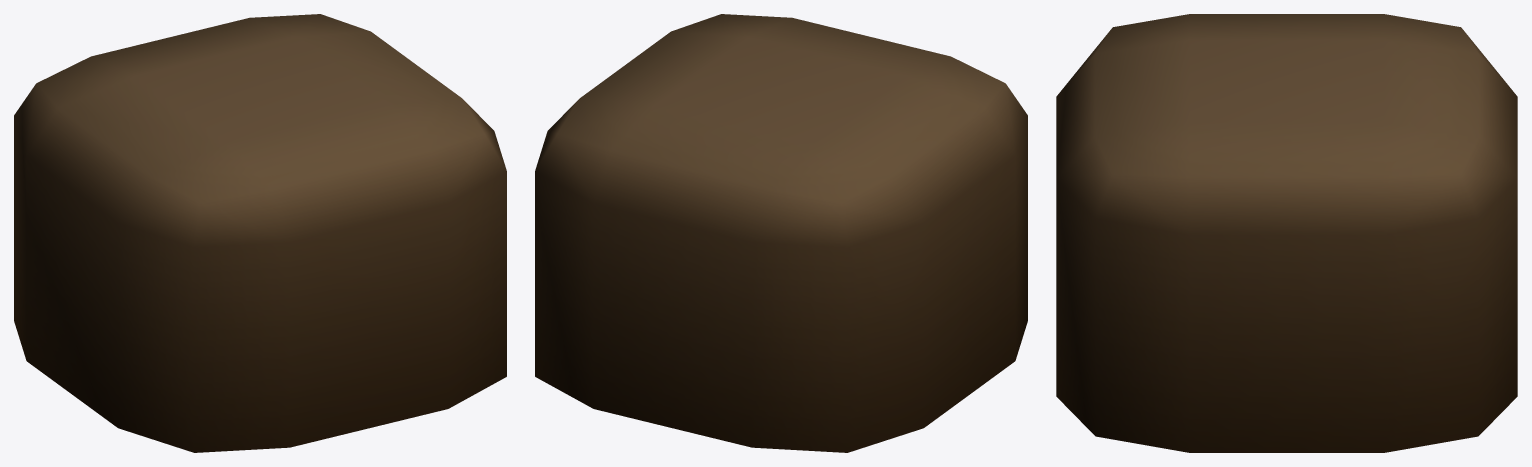
Rendered from part_Chocolate_2.fbx.
The picture shows the model from 3 angles, left to right: view 1: azimuth 30°, elevation 25°; view 2: azimuth 150°, elevation 25°; view 3: azimuth 270°, elevation 25°; orthographic projection. The views are drawn at different scales.
Parts seen in each view (by area): view 1: choco_2; view 2: choco_2; view 3: choco_2.
Boxes of the visible parts, x1,y1,x2,y2 form: choco_2: (14, 14, 506, 452); choco_2: (535, 14, 1027, 452); choco_2: (1056, 14, 1517, 452).
Bounding box in the file's own units: 13.06 × 8.56 × 13.06.
